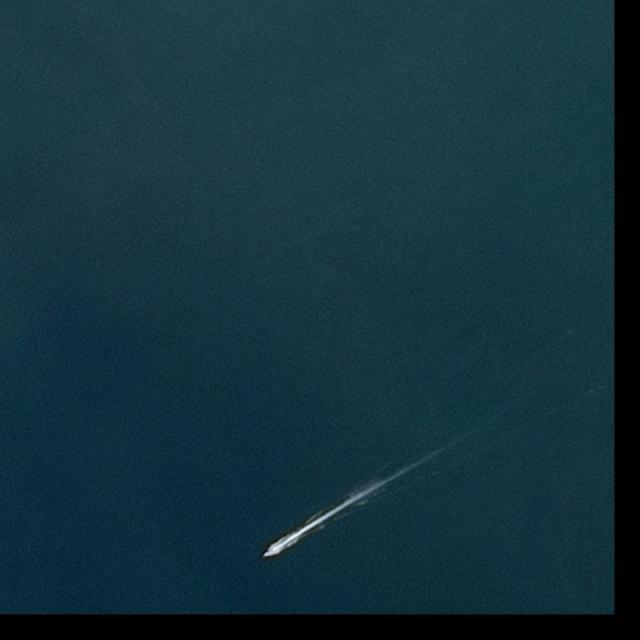ship: (262, 548, 275, 558)
